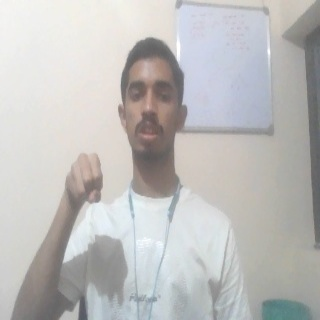Face: (117, 39, 189, 167)
Yes: (65, 152, 104, 208)
